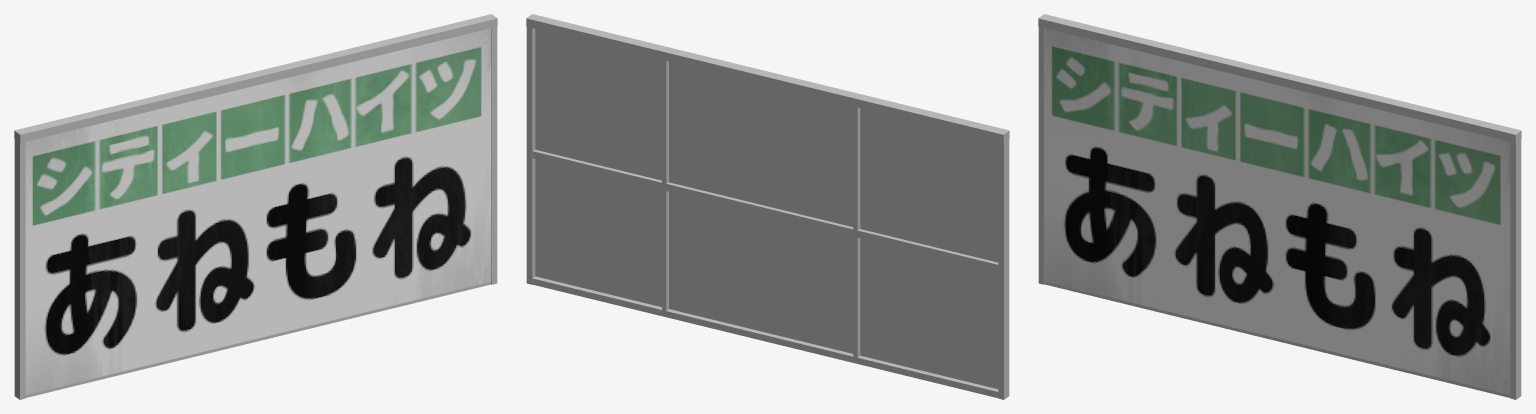
Rendered from signboard_3_17.fbx.
3 views of the same model, side by side, from view 1: azimuth 30°, elevation 25°; view 2: azimuth 150°, elevation 25°; view 3: azimuth 330°, elevation 25° (orthographic).
Parts seen in each view (by area): view 1: signboard_3_17; view 2: signboard_3_17; view 3: signboard_3_17.
Boxes of the visible parts, x1,y1,x2,y2 form: signboard_3_17: (14,14,497,399); signboard_3_17: (526,14,1009,399); signboard_3_17: (1038,14,1521,399).
Size of the model in its own units: 3.09 by 1.64 by 0.0672.
